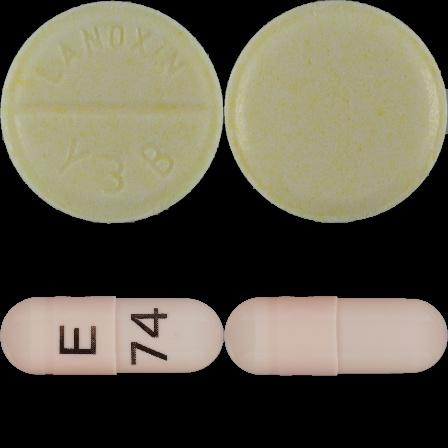69189-0514: (0, 0, 224, 224)
